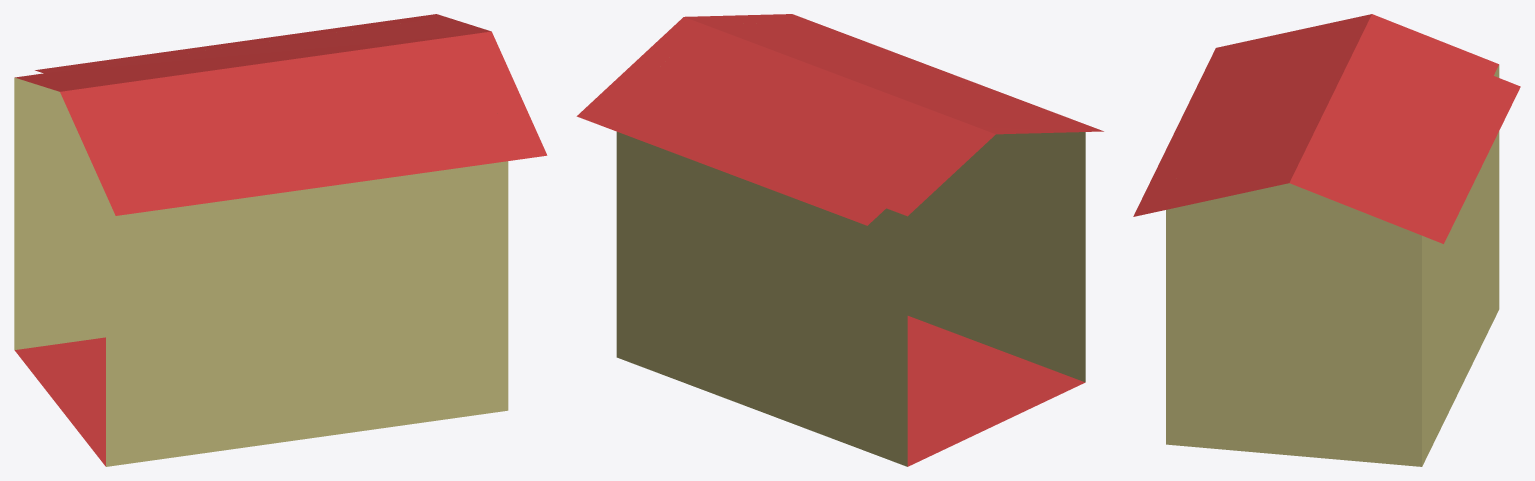
3 renders of one model, left to right at view 1: azimuth 30°, elevation 25°; view 2: azimuth 150°, elevation 25°; view 3: azimuth 270°, elevation 25°, orthographic. The views are drawn at different scales.
Size of the model in its own units: 12.52 by 10.45 by 8.45.
